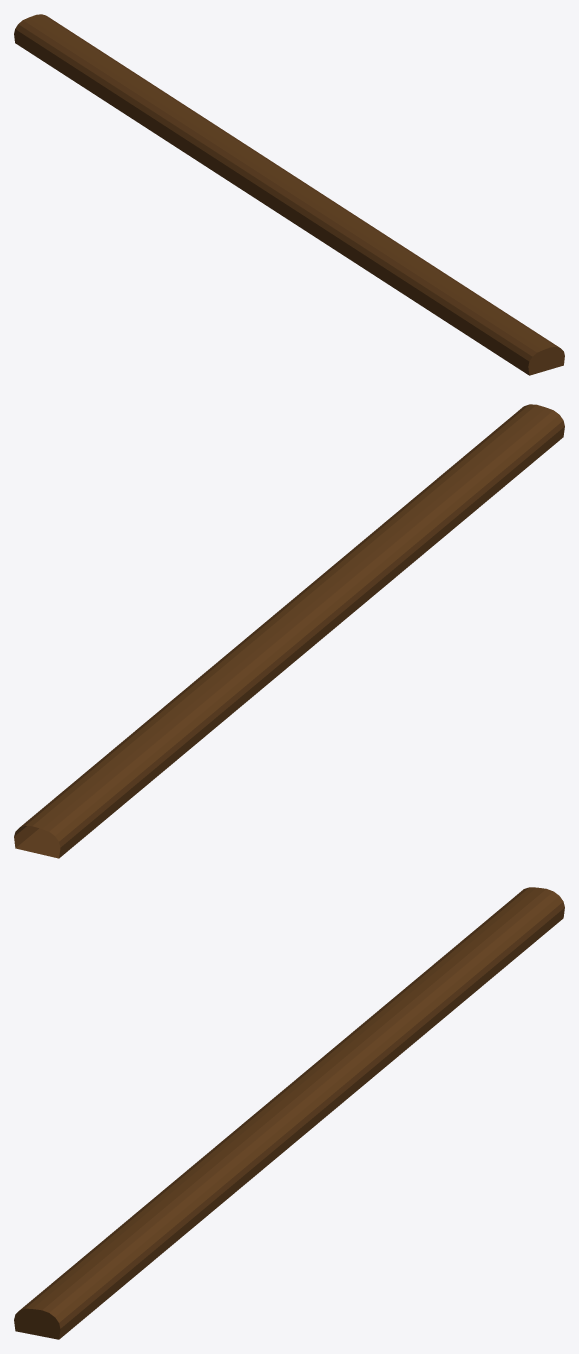
The model's file is circle.179_lev3.glb.
3 renders of one model, top to bottom at view 1: azimuth 30°, elevation 25°; view 2: azimuth 150°, elevation 25°; view 3: azimuth 330°, elevation 25°, orthographic. The views are drawn at different scales.
Parts seen in each view (by area): view 1: circle.179_lev3; view 2: circle.179_lev3; view 3: circle.179_lev3.
Part boxes in pixels (<box>): circle.179_lev3: <box>14,14,564,375</box>; circle.179_lev3: <box>14,404,564,858</box>; circle.179_lev3: <box>14,887,564,1339</box>.
Bounding box in the file's own units: 0.1138 × 0.0295 × 1.12.
1 material, 1 textured.
